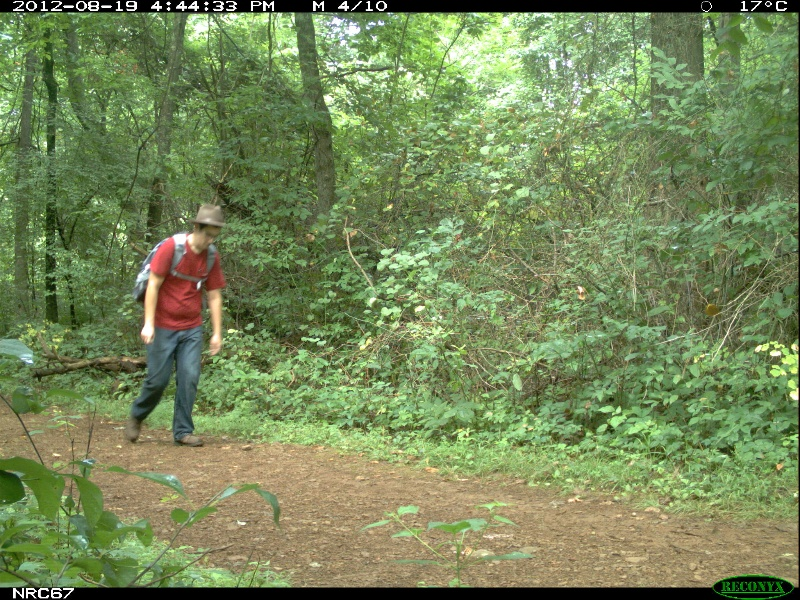human: (131, 198, 226, 451)
human face: (190, 220, 222, 255)
human legs: (129, 317, 208, 452)
